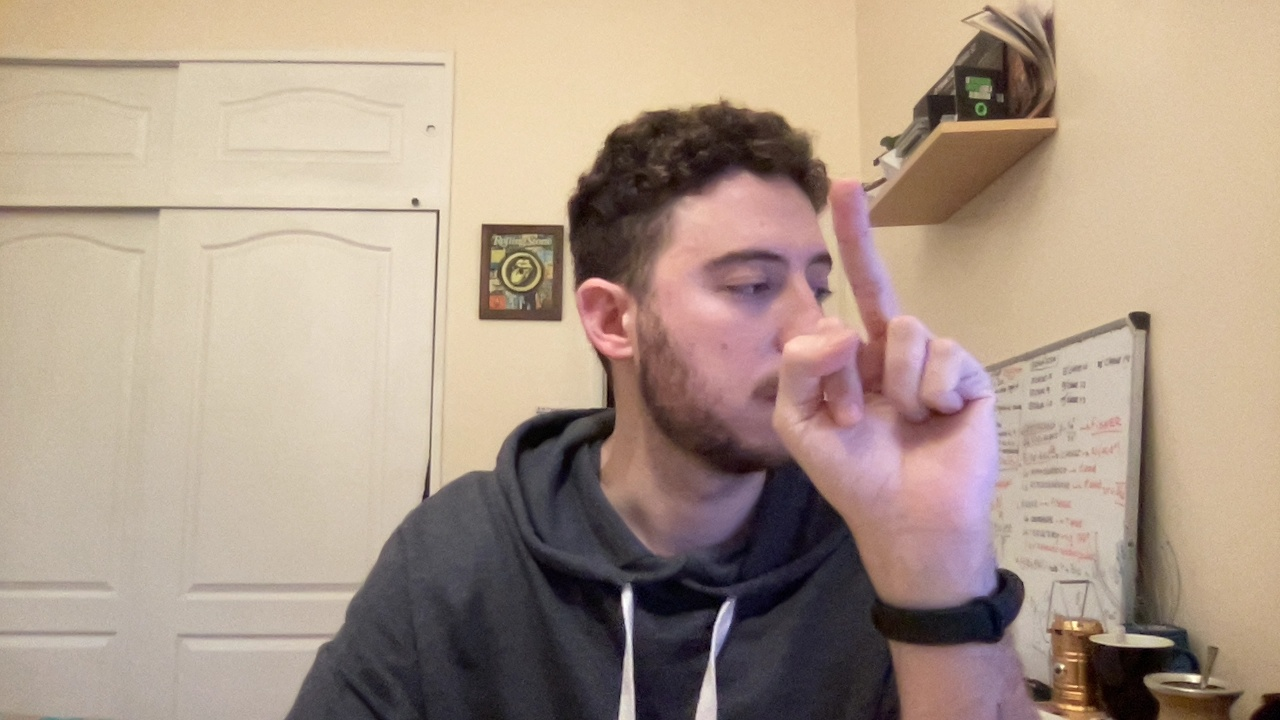mayor: (764, 172, 1037, 529)
